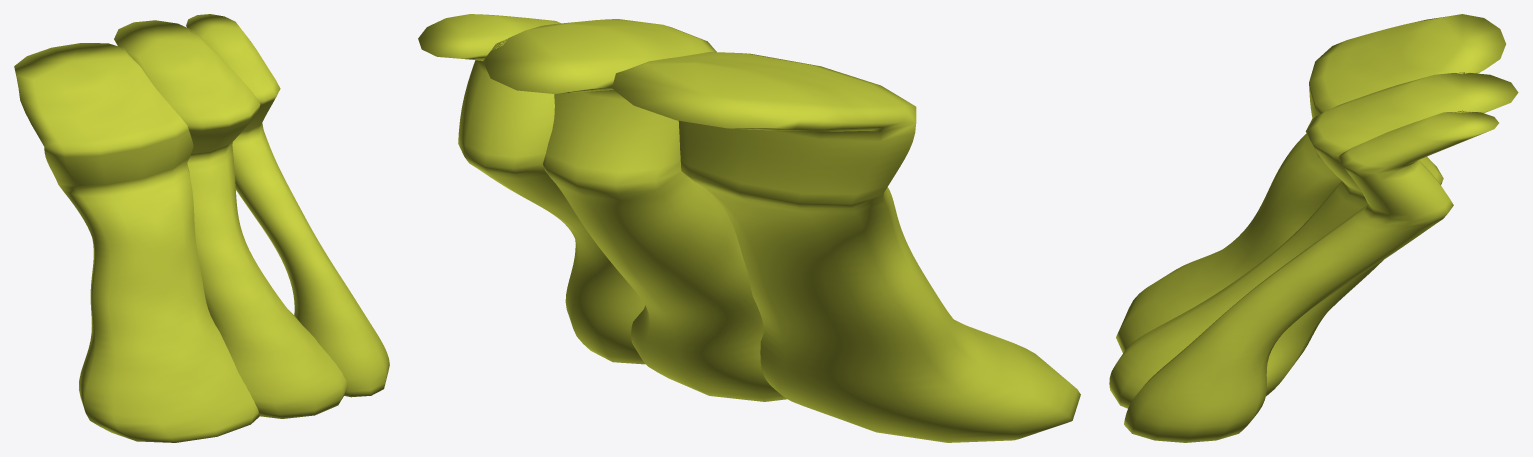
Rendered from waterfall-curtain.glb.
3 views of the same model, side by side, from view 1: azimuth 30°, elevation 25°; view 2: azimuth 150°, elevation 25°; view 3: azimuth 270°, elevation 25° (orthographic). The views are drawn at different scales.
Parts seen in each view (by area): view 1: Syrup rounded pour 1, Syrup rounded pour 2, Syrup rounded pour 3; view 2: Syrup rounded pour 1, Syrup rounded pour 2, Syrup rounded pour 3; view 3: Syrup rounded pour 3, Syrup rounded pour 1, Syrup rounded pour 2.
Part boxes in pixels (x1,y1,x2,y2): Syrup rounded pour 1: [14, 43, 259, 442]; Syrup rounded pour 2: [114, 20, 347, 418]; Syrup rounded pour 3: [186, 14, 389, 397]; Syrup rounded pour 1: [612, 52, 1080, 442]; Syrup rounded pour 2: [483, 19, 787, 401]; Syrup rounded pour 3: [418, 14, 645, 364]; Syrup rounded pour 3: [1124, 110, 1498, 442]; Syrup rounded pour 1: [1116, 14, 1505, 352]; Syrup rounded pour 2: [1109, 72, 1518, 408].
Bounding box in the file's own units: 1.15 × 1 × 1.25.
